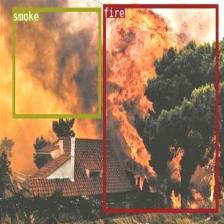fire: (103, 4, 218, 212)
smoke: (12, 7, 100, 117)
